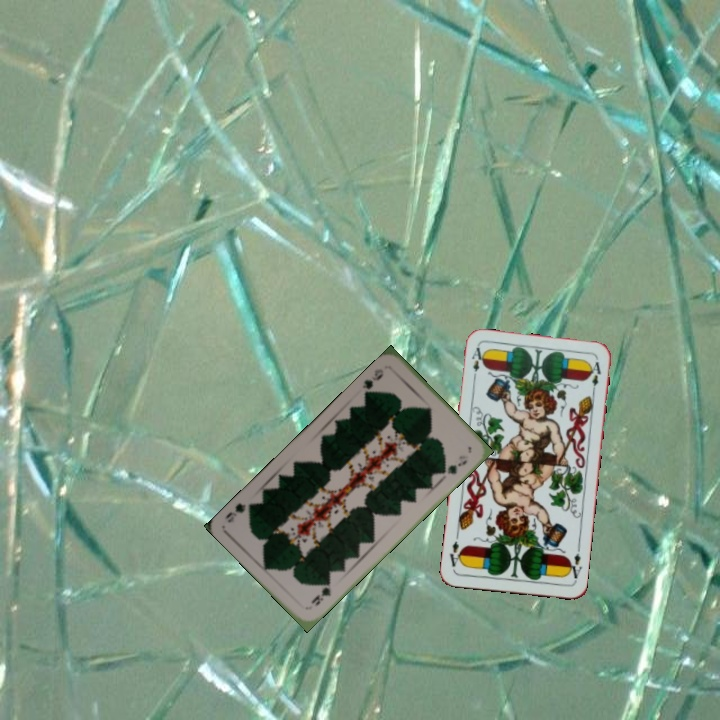EA: (564, 543, 585, 584), (468, 343, 486, 383)
G9: (358, 365, 386, 398), (307, 578, 333, 608)
